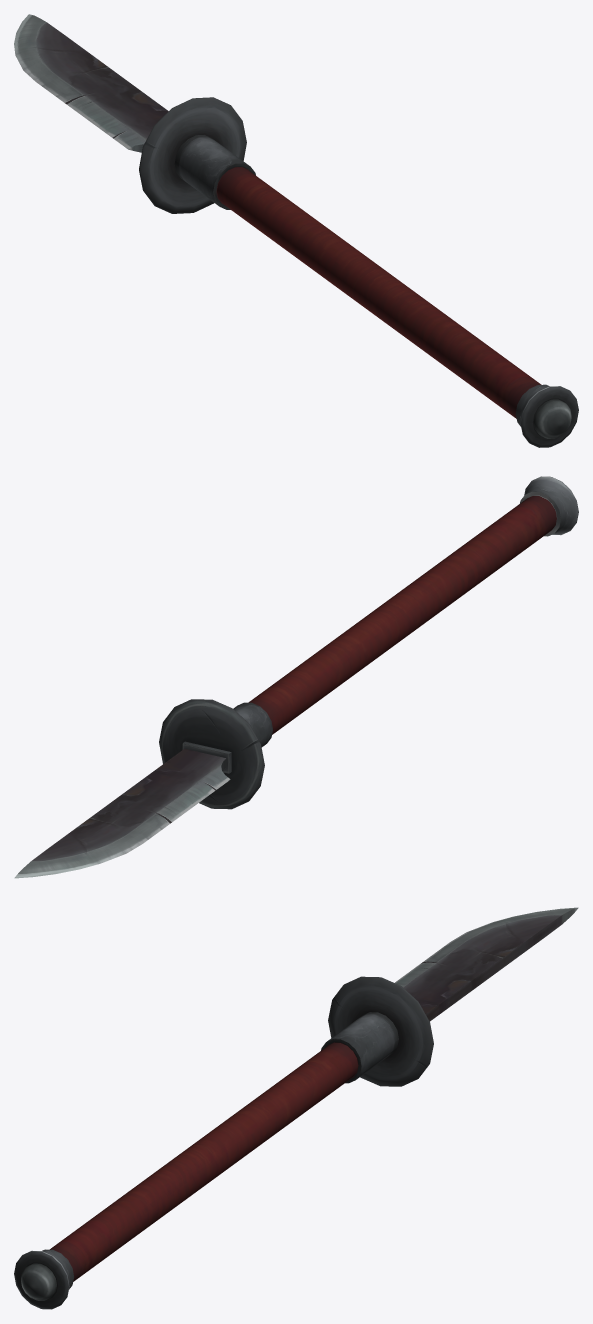
The model's file is Halberd_tiny.fbx.
The picture shows the model from 3 angles, top to bottom: view 1: azimuth 30°, elevation 25°; view 2: azimuth 150°, elevation 25°; view 3: azimuth 330°, elevation 25°; orthographic projection. The views are drawn at different scales.
Visible parts, largest first — view 1: halberd_tiny; view 2: halberd_tiny; view 3: halberd_tiny.
Boxes of the visible parts, x1=… form: halberd_tiny: x1=14, y1=14, x2=578, y2=447; halberd_tiny: x1=14, y1=476, x2=578, y2=878; halberd_tiny: x1=14, y1=907, x2=578, y2=1309.
Bounding box in the file's own units: 71.58 × 71.58 × 626.
